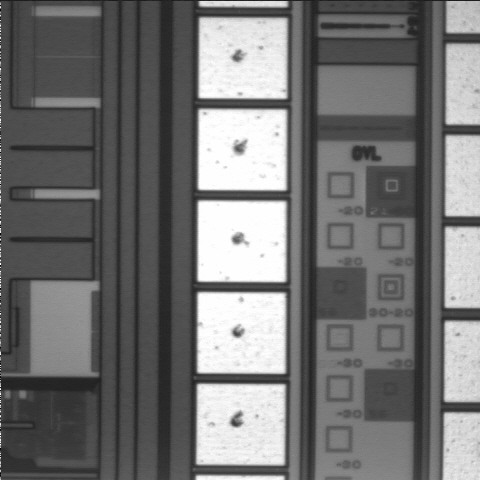pad: (197, 200, 286, 282), (197, 292, 286, 374), (198, 109, 287, 190), (196, 384, 285, 465), (199, 18, 287, 99)
